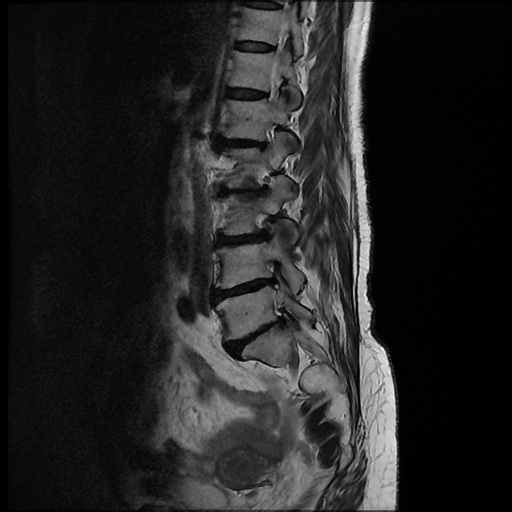RFS3: (246, 206, 279, 254)
